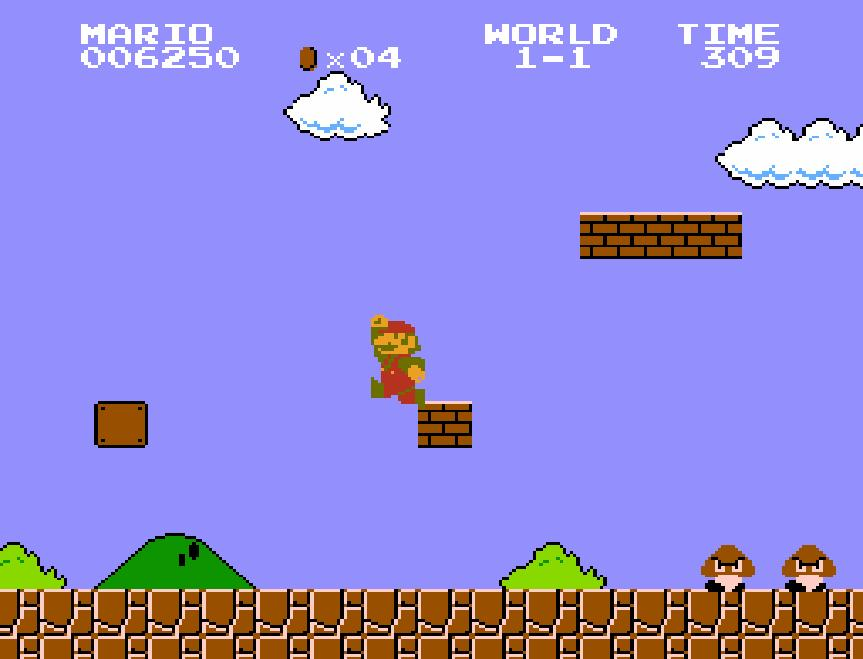big_mario: (368, 313, 426, 411)
